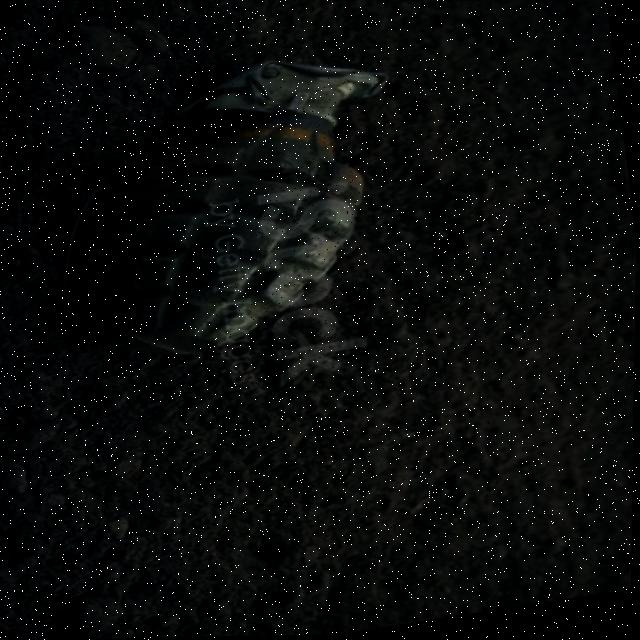grenade: (33, 34, 427, 384)
